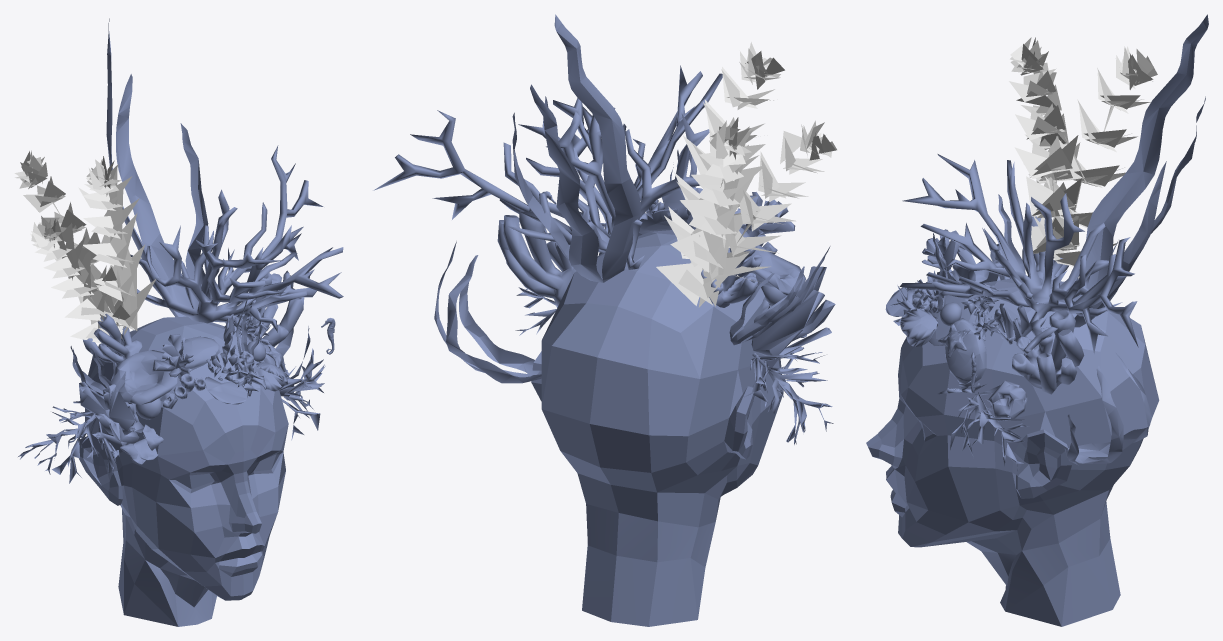
Rendered from website_avatar_soph_fallback.gltf.
The picture shows the model from 3 angles, left to right: view 1: azimuth 30°, elevation 25°; view 2: azimuth 150°, elevation 25°; view 3: azimuth 270°, elevation 25°; orthographic projection. The views are drawn at different scales.
Parts seen in each view (by area): view 1: low_poly_head.001, Alcyonacea_red_01_2.001, Seaweed_2.001, Wiertje0_2.001, Wiertje2_9.001, Wiertje1_9.001, Turbinaria_peltata_2.001, Tube_Coral_purple_01_1_2.001, Acropora_big_03_2_3.001, Tube_Coral_01_1_2.001, Acropora_big_03_2_2.001, Tube_Coral_01_2_2.001 (+7 smaller); view 2: low_poly_head.001, Alcyonacea_red_01_2.001, Seaweed_2.001, Wiertje1_9.001, Wiertje2_9.001, Tube_Coral_01_2_2.001, Seaweed_5.001, Wiertje0_2.001, Tube_Coral_purple_01_1_2.001, Acropora_big_03_2_3.001, Seaweed_1.001, Turbinaria_peltata_2.001 (+3 smaller); view 3: low_poly_head.001, Alcyonacea_red_01_2.001, Seaweed_2.001, Wiertje0_2.001, Wiertje1_9.001, Tube_Coral_01_2_2.001, Seaweed_5.001, Acropora_big_03_2_2.001, Wiertje2_9.001, brain_coral_01_2.001, Tube_sponges_Red_1_2.001, shell_upper.001 (+7 smaller).
Boxes of the visible parts, left/top/right/bottom form: low_poly_head.001: left=79, top=316, right=288, bottom=626; Alcyonacea_red_01_2.001: left=130, top=145, right=343, bottom=332; Seaweed_2.001: left=106, top=18, right=208, bottom=316; Wiertje0_2.001: left=78, top=156, right=155, bottom=335; Wiertje2_9.001: left=30, top=216, right=123, bottom=343; Wiertje1_9.001: left=14, top=150, right=130, bottom=328; Turbinaria_peltata_2.001: left=111, top=350, right=177, bottom=404; Tube_Coral_purple_01_1_2.001: left=79, top=382, right=143, bottom=446; Acropora_big_03_2_3.001: left=18, top=401, right=119, bottom=483; Tube_Coral_01_1_2.001: left=83, top=313, right=142, bottom=366; Acropora_big_03_2_2.001: left=279, top=348, right=325, bottom=440; Tube_Coral_01_2_2.001: left=240, top=269, right=304, bottom=346; low_poly_head.001: left=531, top=229, right=783, bottom=626; Alcyonacea_red_01_2.001: left=373, top=65, right=722, bottom=269; Seaweed_2.001: left=512, top=14, right=640, bottom=282; Wiertje1_9.001: left=656, top=117, right=765, bottom=307; Wiertje2_9.001: left=699, top=120, right=836, bottom=281; Tube_Coral_01_2_2.001: left=497, top=209, right=576, bottom=305; Seaweed_5.001: left=434, top=241, right=541, bottom=383; Wiertje0_2.001: left=664, top=42, right=784, bottom=266; Tube_Coral_purple_01_1_2.001: left=751, top=266, right=835, bottom=358; Acropora_big_03_2_3.001: left=747, top=352, right=833, bottom=444; Seaweed_1.001: left=729, top=246, right=830, bottom=345; Turbinaria_peltata_2.001: left=730, top=245, right=805, bottom=295; low_poly_head.001: left=866, top=278, right=1159, bottom=626; Alcyonacea_red_01_2.001: left=899, top=154, right=1138, bottom=354; Seaweed_2.001: left=1072, top=14, right=1208, bottom=327; Wiertje0_2.001: left=1009, top=37, right=1081, bottom=253; Wiertje1_9.001: left=1033, top=46, right=1157, bottom=266; Tube_Coral_01_2_2.001: left=1012, top=309, right=1084, bottom=394; Seaweed_5.001: left=1064, top=353, right=1152, bottom=465; Acropora_big_03_2_2.001: left=936, top=375, right=1029, bottom=470; Wiertje2_9.001: left=1016, top=62, right=1081, bottom=253; brain_coral_01_2.001: left=945, top=318, right=986, bottom=386; Tube_sponges_Red_1_2.001: left=988, top=380, right=1027, bottom=418; shell_upper.001: left=900, top=308, right=937, bottom=340.
Size of the model in its own units: 195 by 291 by 153.
